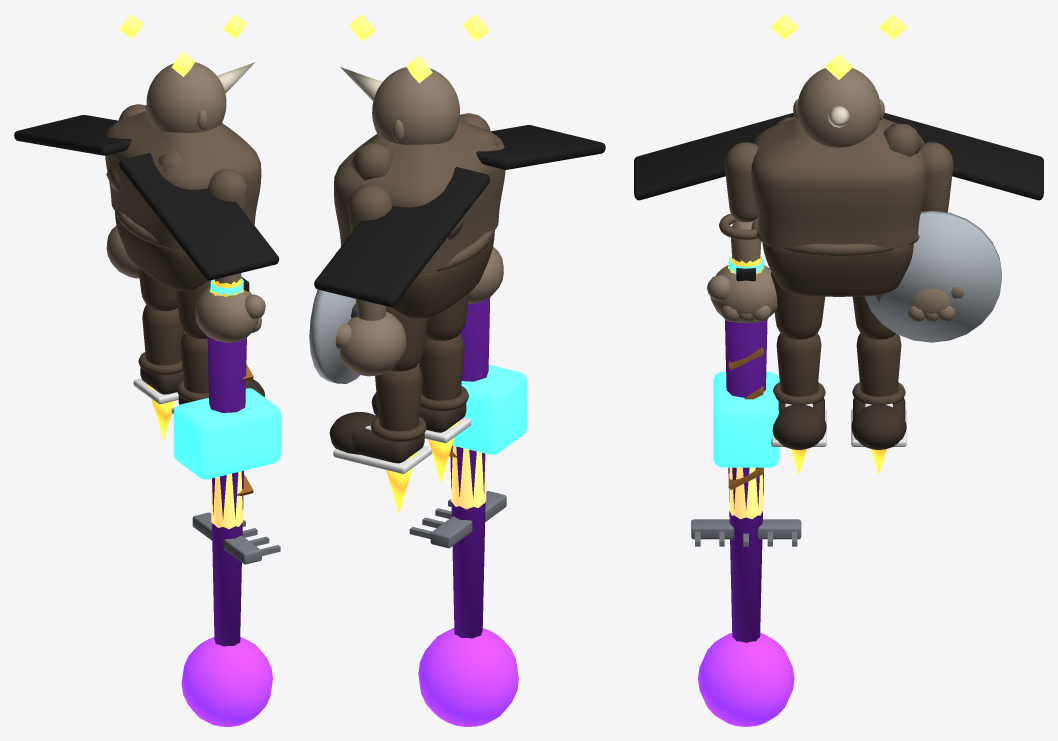
The model's file is kai-forma1.glb.
The picture shows the model from 3 angles, left to right: view 1: azimuth 30°, elevation 25°; view 2: azimuth 150°, elevation 25°; view 3: azimuth 270°, elevation 25°; orthographic projection. The views are drawn at different scales.
Visible parts, largest first — view 1: torso, wing0, hammerHead, shadowFist, shadowArm, skull, wing1, pelvis, palm, calf.001, calf, baguette (+10 smaller); view 2: wing1, torso, shadowFist, shadowArm, skull, hammerHead, wing0, pelvis, palm.001, prop:lid, calf.001, calf (+19 smaller); view 3: torso, prop:lid, shadowFist, shadowArm, pelvis, hammerHead, wing1, wing0, skull, calf, calf.001, thigh (+12 smaller).
Part boxes in pixels (box(x1,y1,x2,y2)): torso: box(105, 110, 261, 249); wing0: box(119, 153, 279, 280); hammerHead: box(173, 388, 280, 479); shadowFist: box(181, 637, 272, 726); shadowArm: box(207, 337, 246, 646); skull: box(146, 62, 226, 132); wing1: box(14, 115, 131, 155); pelvis: box(115, 211, 208, 291); palm: box(195, 286, 258, 342); calf.001: box(142, 304, 184, 365); calf: box(180, 332, 208, 393); baguette: box(211, 471, 243, 529); wing1: box(314, 167, 490, 307); torso: box(334, 120, 505, 272); shadowFist: box(418, 628, 518, 726); shadowArm: box(450, 297, 490, 638); skull: box(372, 67, 459, 144); hammerHead: box(424, 365, 527, 454); wing0: box(476, 125, 605, 169); pelvis: box(391, 230, 494, 318); palm.001: box(340, 311, 406, 376); prop:lid: box(309, 251, 359, 383); calf.001: box(375, 364, 422, 431); calf: box(418, 334, 464, 400); torso: box(751, 118, 926, 248); prop:lid: box(864, 211, 1001, 342); shadowFist: box(698, 633, 794, 726); shadowArm: box(725, 319, 767, 642); pelvis: box(762, 243, 913, 296); hammerHead: box(713, 372, 779, 467); wing1: box(883, 113, 1043, 200); wing0: box(634, 113, 794, 200); skull: box(797, 68, 880, 147); calf: box(776, 333, 821, 396); calf.001: box(856, 333, 901, 396); thigh: box(771, 272, 825, 339).
Size of the model in its own units: 0.8012 by 3.49 by 1.86.
